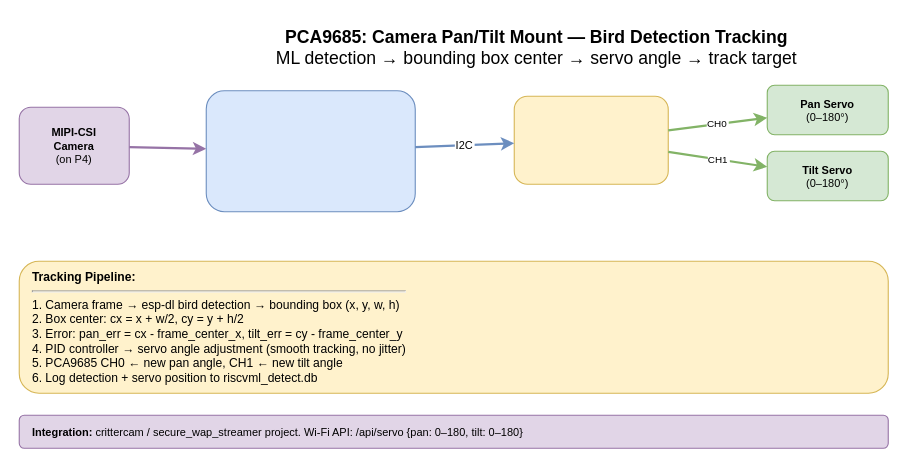
Image size: 908x468. Some labels were removed from this diagram. The shapes that lost their labels are listed below. From the top down, each one's box as (x1, y1, x2, y2) in pixels, then its label:
(205, 90, 415, 212): ESP32-P4 esp-dl inference → bounding box → angle calc I2C: GPIO 21/20
(513, 95, 668, 184): PCA9685 (0x40) CH0 = Pan CH1 = Tilt
